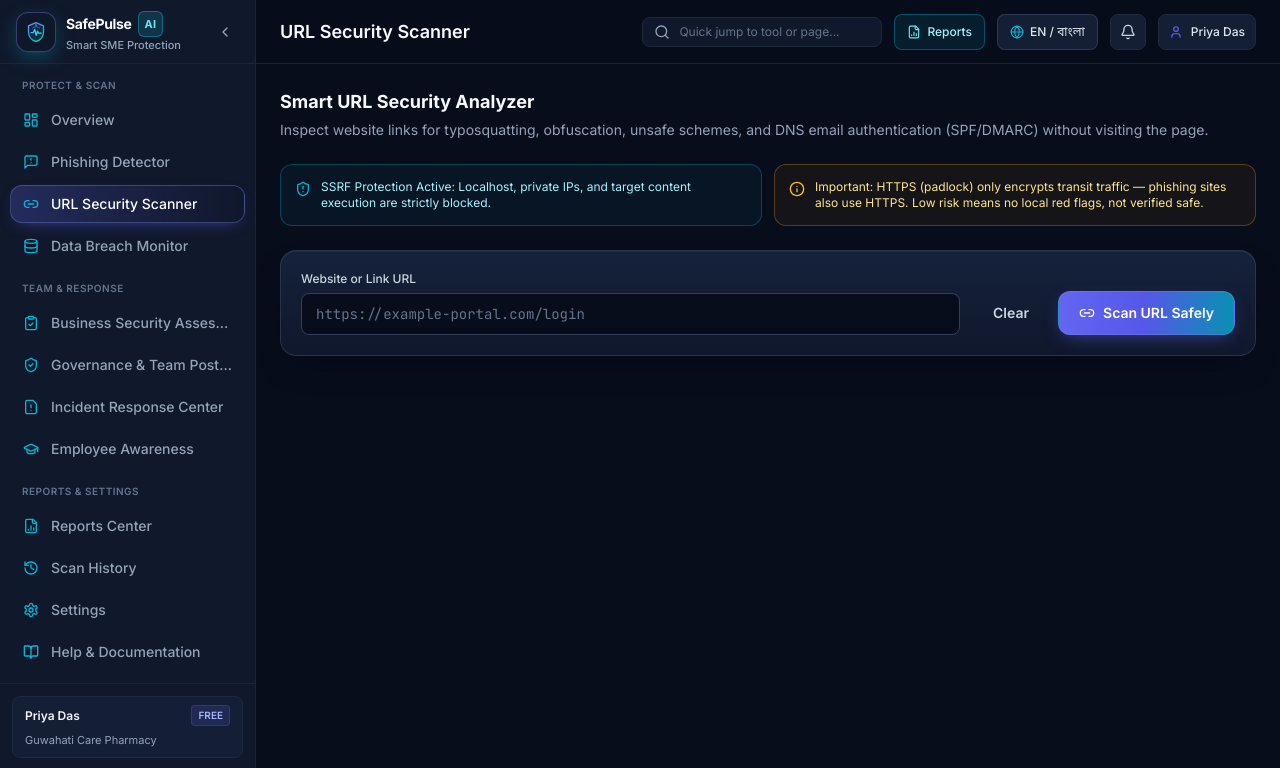
Test case: SafePulse AI Frontend › displays SSRF error banner when URL scanner rejects localhost
Expected: the heading "Smart URL Security Analyzer" is shown, [280,91,534,112]
Type "http://localhost:8000/admin" into the field labelled "Website or Link URL".
click(630, 314); type("http://localhost:8000/admin")  # box [301,293,960,335]
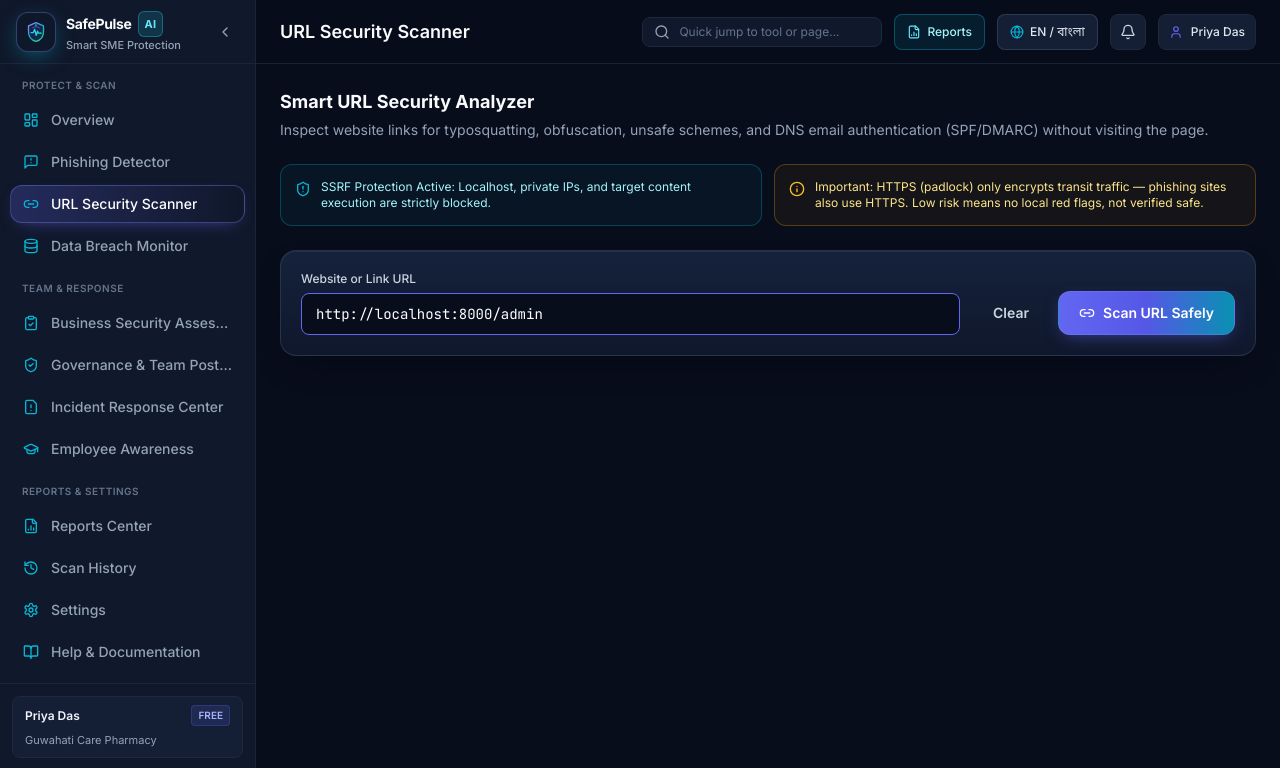
Click the button "Scan URL Safely".
click(1146, 313)  # box [1058,291,1235,335]
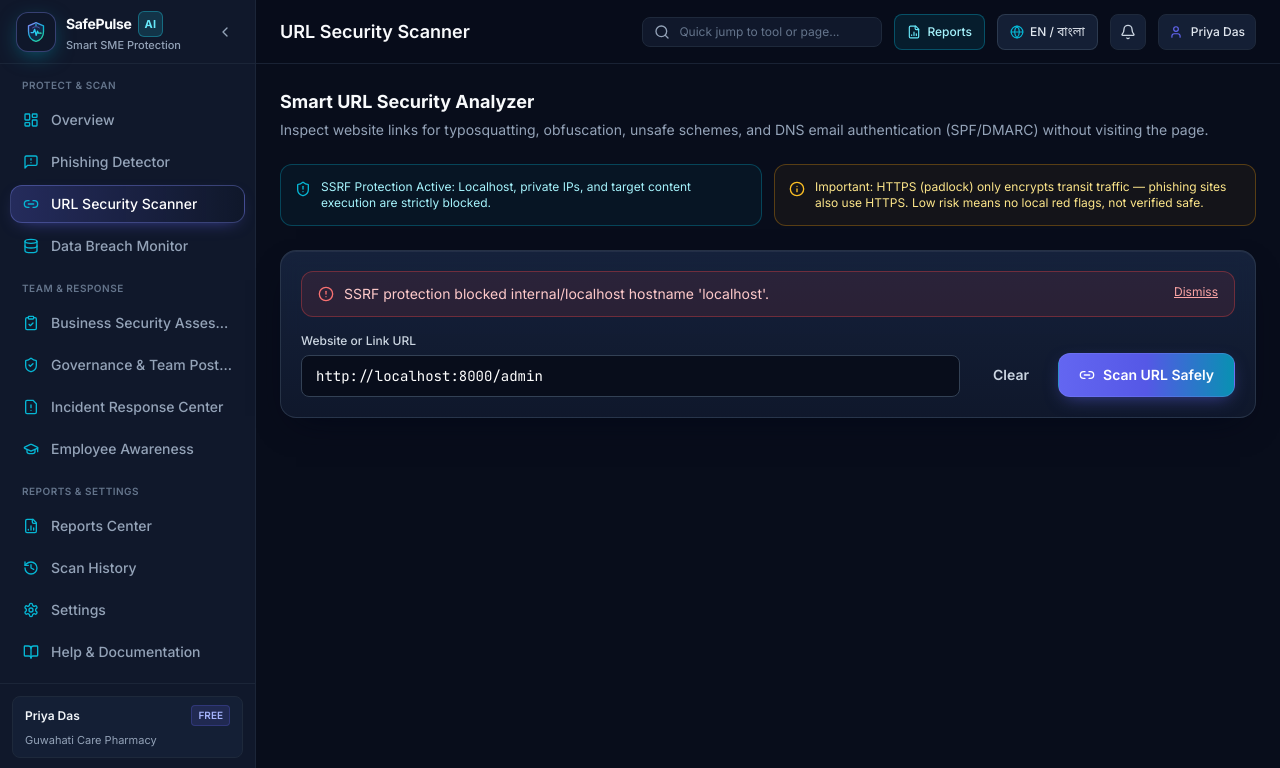
Now the message shows "SSRF protection blocked", box [344,285,769,302]
